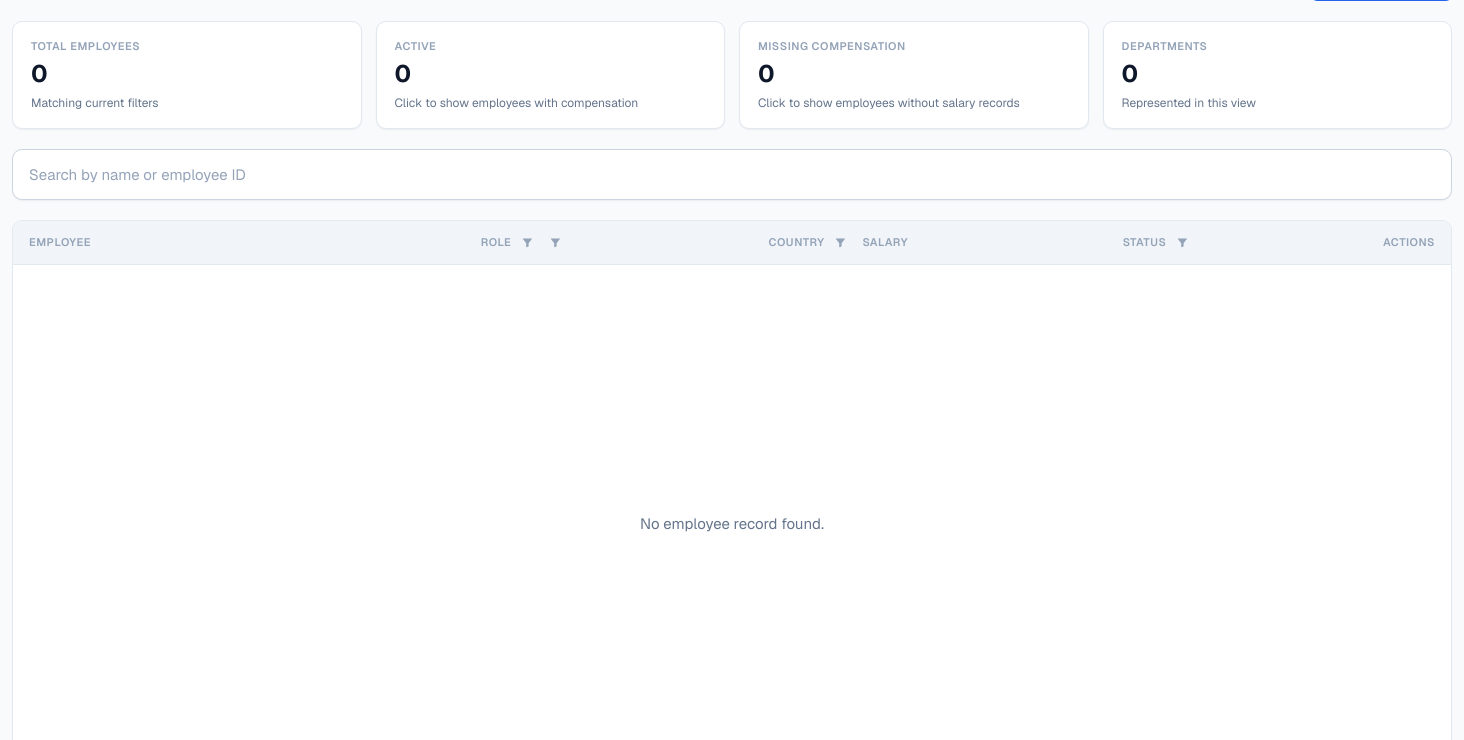
Test: EmployeeDirectory › shows a filter-specific empty state when filters are active
Expected: the text "No employee record found." is shown, [640, 514, 824, 533]
Type "Nobody" into the search field named "Search employees" at (732, 174), box [12, 149, 1452, 200]
(page scrolled)
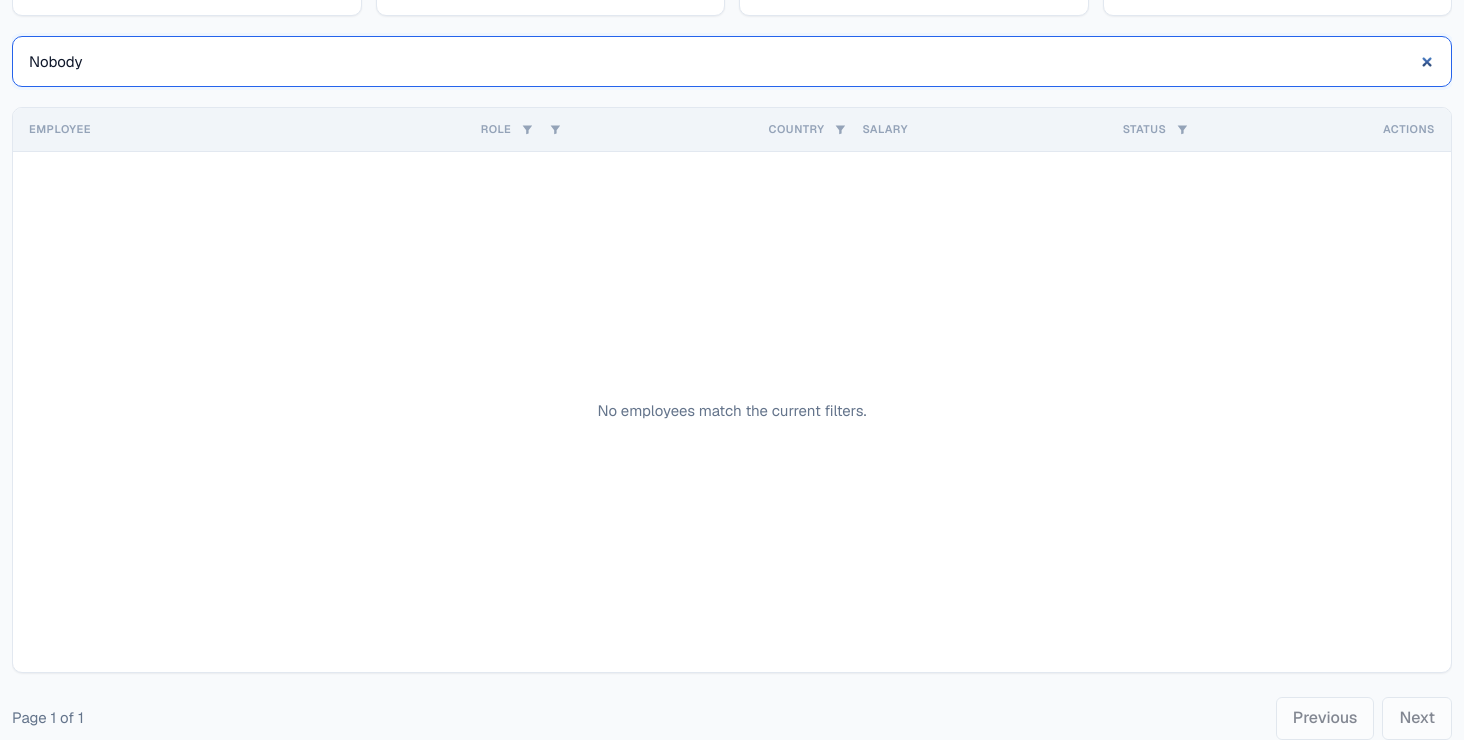
Expected: the text "No employees match the current filters." is shown, [598, 401, 866, 420]
